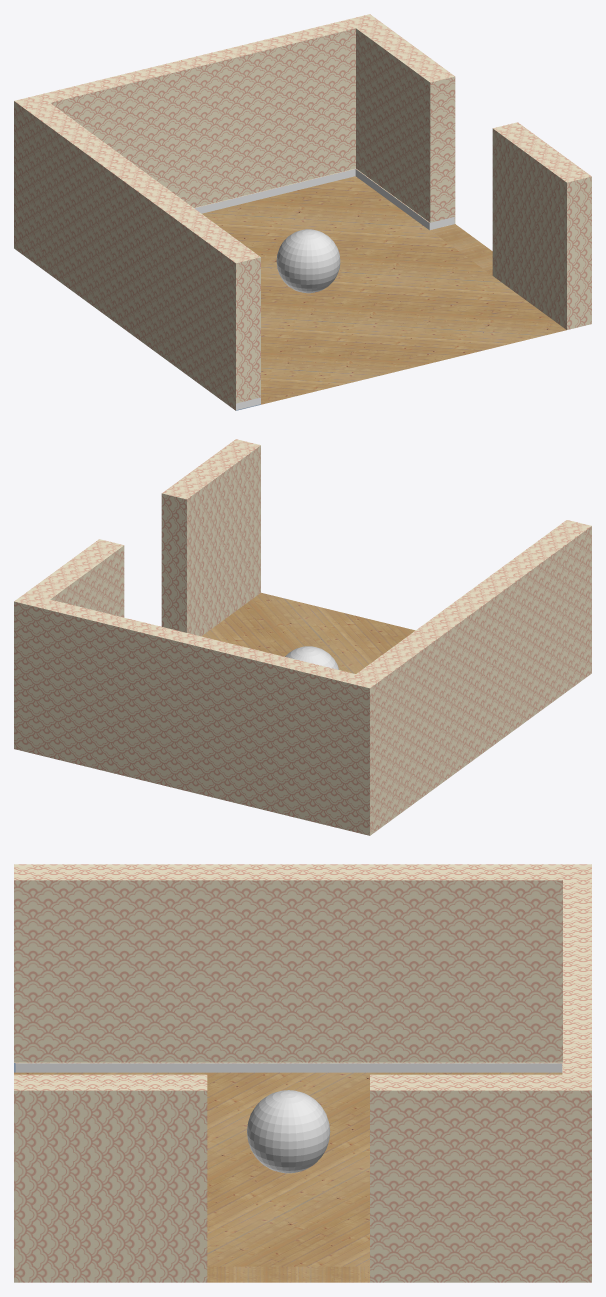
The model's file is jelly-world.fbx.
3 views of the same model, one above another, from view 1: azimuth 30°, elevation 25°; view 2: azimuth 150°, elevation 25°; view 3: azimuth 270°, elevation 25° (orthographic). The views are drawn at different scales.
Visible parts, largest first — view 1: Plane.001, Sphere; view 2: Plane.001, Sphere; view 3: Plane.001, Sphere.
Part boxes in pixels (bbox=[...]): Plane.001: bbox=[14, 14, 591, 410]; Sphere: bbox=[276, 229, 340, 293]; Plane.001: bbox=[14, 439, 591, 835]; Sphere: bbox=[285, 646, 338, 669]; Plane.001: bbox=[14, 864, 591, 1282]; Sphere: bbox=[247, 1090, 330, 1173].
Bounding box in the file's own units: 1310 × 519 × 1415.
